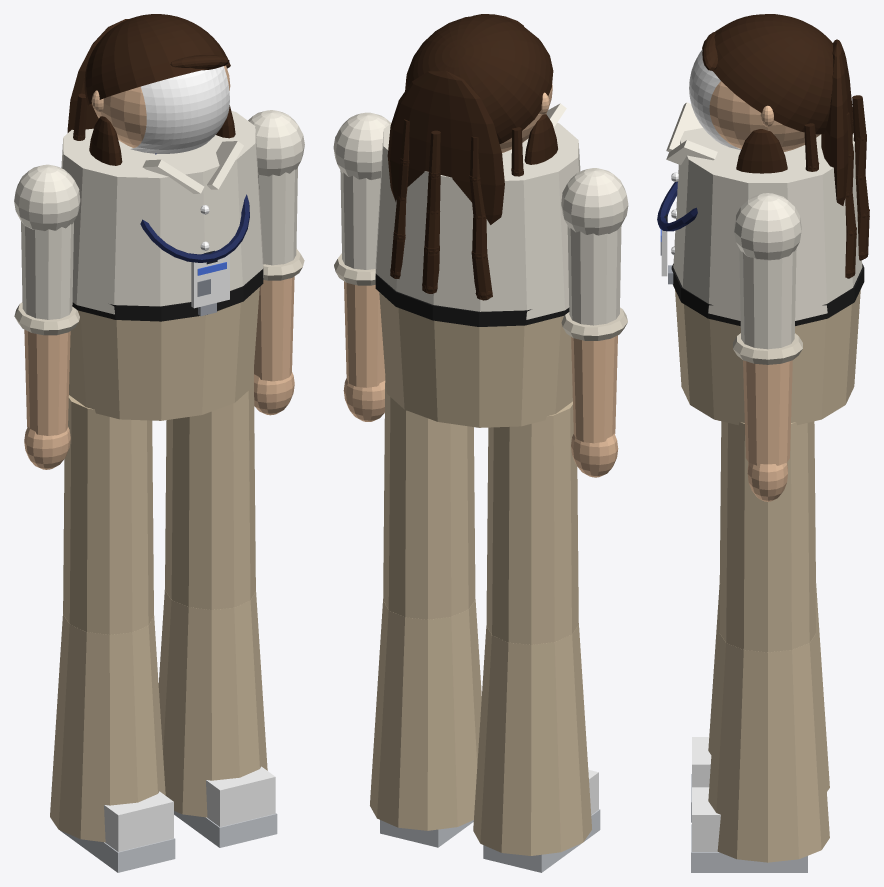
File: claude.obj
3 views of the same model, side by side, from view 1: azimuth 30°, elevation 25°; view 2: azimuth 150°, elevation 25°; view 3: azimuth 270°, elevation 25° (orthographic).
Visible parts, largest first — view 1: mesh_12, mesh_2, mesh_1, mesh_6, mesh_9, mesh_5, mesh_38, mesh_37, mesh_24, mesh_26, mesh_31, mesh_23 (+19 smaller); view 2: mesh_2, mesh_6, mesh_12, mesh_1, mesh_9, mesh_5, mesh_38, mesh_40, mesh_24, mesh_26, mesh_31, mesh_23 (+13 smaller); view 3: mesh_6, mesh_12, mesh_5, mesh_9, mesh_38, mesh_29, mesh_31, mesh_28, mesh_40, mesh_34, mesh_8, mesh_42 (+17 smaller).
Part boxes in pixels (x1=…): mesh_12: x1=61, y1=111, x2=263, y2=314; mesh_2: x1=50, y1=615, x2=165, y2=842; mesh_1: x1=63, y1=395, x2=153, y2=634; mesh_6: x1=158, y1=590, x2=267, y2=817; mesh_9: x1=69, y1=287, x2=259, y2=420; mesh_5: x1=165, y1=369, x2=255, y2=609; mesh_38: x1=84, y1=14, x2=230, y2=106; mesh_37: x1=130, y1=66, x2=229, y2=153; mesh_24: x1=21, y1=221, x2=73, y2=319; mesh_26: x1=24, y1=329, x2=70, y2=435; mesh_31: x1=254, y1=276, x2=294, y2=381; mesh_23: x1=14, y1=164, x2=80, y2=231; mesh_2: x1=473, y1=624, x2=591, y2=855; mesh_6: x1=370, y1=599, x2=481, y2=830; mesh_12: x1=375, y1=123, x2=580, y2=319; mesh_1: x1=486, y1=401, x2=578, y2=644; mesh_9: x1=379, y1=292, x2=572, y2=427; mesh_5: x1=383, y1=378, x2=475, y2=619; mesh_38: x1=405, y1=15, x2=553, y2=143; mesh_40: x1=387, y1=71, x2=504, y2=224; mesh_24: x1=567, y1=225, x2=621, y2=325; mesh_26: x1=571, y1=335, x2=617, y2=443; mesh_31: x1=344, y1=281, x2=385, y2=387; mesh_23: x1=561, y1=168, x2=628, y2=235; mesh_6: x1=708, y1=633, x2=829, y2=862; mesh_12: x1=673, y1=128, x2=862, y2=320; mesh_5: x1=719, y1=421, x2=815, y2=652; mesh_9: x1=675, y1=290, x2=860, y2=425; mesh_38: x1=702, y1=14, x2=833, y2=134; mesh_29: x1=739, y1=248, x2=796, y2=349; mesh_31: x1=743, y1=360, x2=792, y2=465; mesh_28: x1=734, y1=193, x2=801, y2=260; mesh_40: x1=821, y1=39, x2=852, y2=205; mesh_34: x1=709, y1=81, x2=820, y2=151; mesh_8: x1=691, y1=824, x2=807, y2=872; mesh_42: x1=736, y1=129, x2=787, y2=173.
Size of the model in its own units: 0.6118 by 1.67 by 0.3957.
